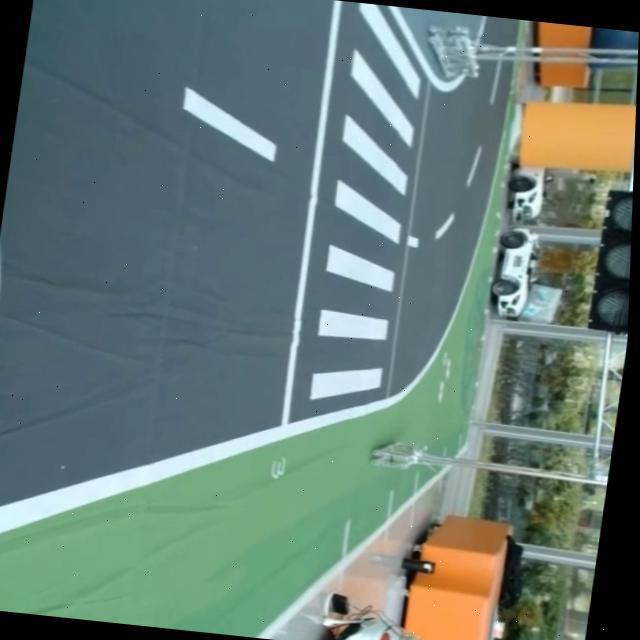traffic-light: (584, 185, 633, 337)
